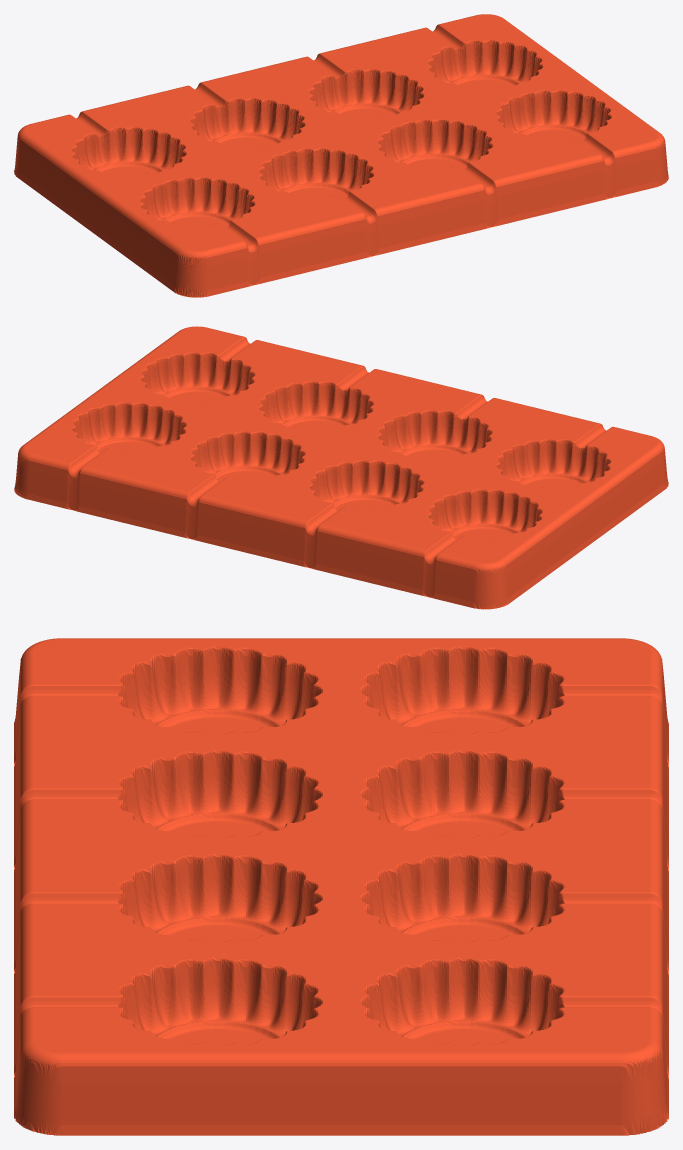
The model's file is mold.glb.
3 views of the same model, one above another, from view 1: azimuth 30°, elevation 25°; view 2: azimuth 150°, elevation 25°; view 3: azimuth 270°, elevation 25° (orthographic). The views are drawn at different scales.
Parts seen in each view (by area): view 1: geometry_0; view 2: geometry_0; view 3: geometry_0.
Part boxes in pixels (x1,y1,x2,y2): geometry_0: [14, 14, 668, 297]; geometry_0: [14, 326, 668, 609]; geometry_0: [14, 638, 668, 1135].
Size of the model in its own units: 0.1907 by 0.0155 by 0.1229.
